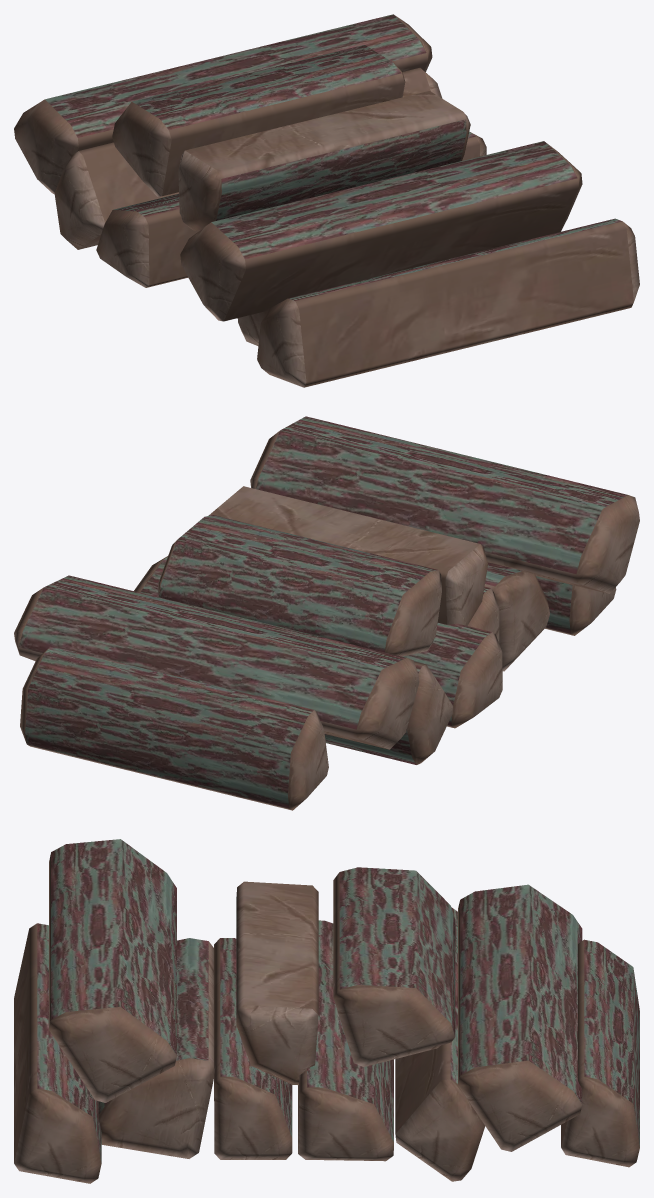
3 views of the same model, one above another, from view 1: azimuth 30°, elevation 25°; view 2: azimuth 150°, elevation 25°; view 3: azimuth 270°, elevation 25° (orthographic). The views are drawn at different scales.
Visible parts, largest first — view 1: SM_WoodStack_02_LOD0; view 2: SM_WoodStack_02_LOD0; view 3: SM_WoodStack_02_LOD0.
Part boxes in pixels (x1,y1,x2,y2): SM_WoodStack_02_LOD0: (14,14,639,387); SM_WoodStack_02_LOD0: (14,416,639,810); SM_WoodStack_02_LOD0: (14,839,639,1183).
Bounding box in the file's own units: 1.27 × 0.4898 × 1.64.
1 material, 1 textured.
